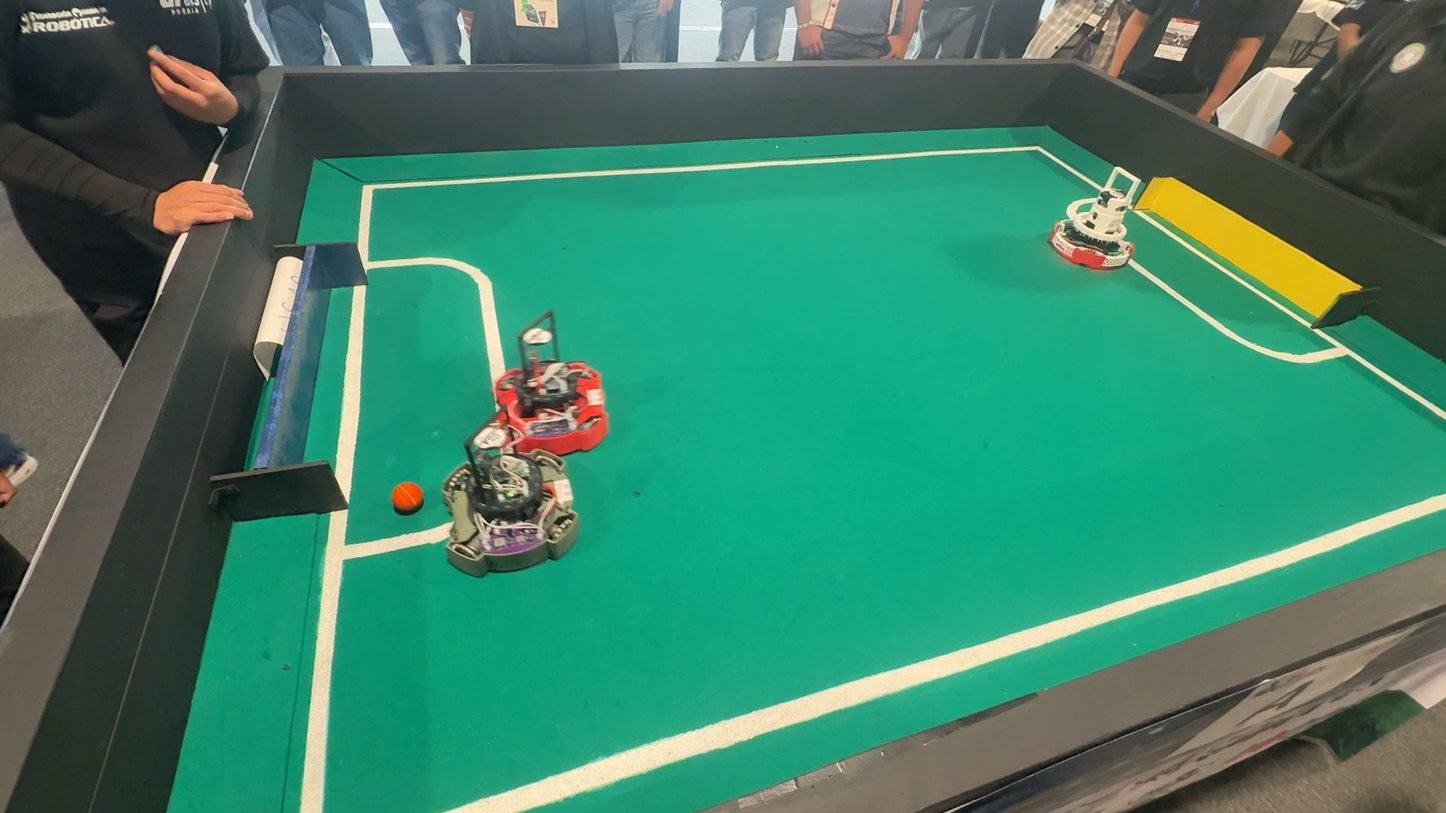Robot: (440, 416, 595, 586), (487, 308, 609, 449), (1041, 161, 1168, 280)
pelota: (388, 480, 426, 518)
